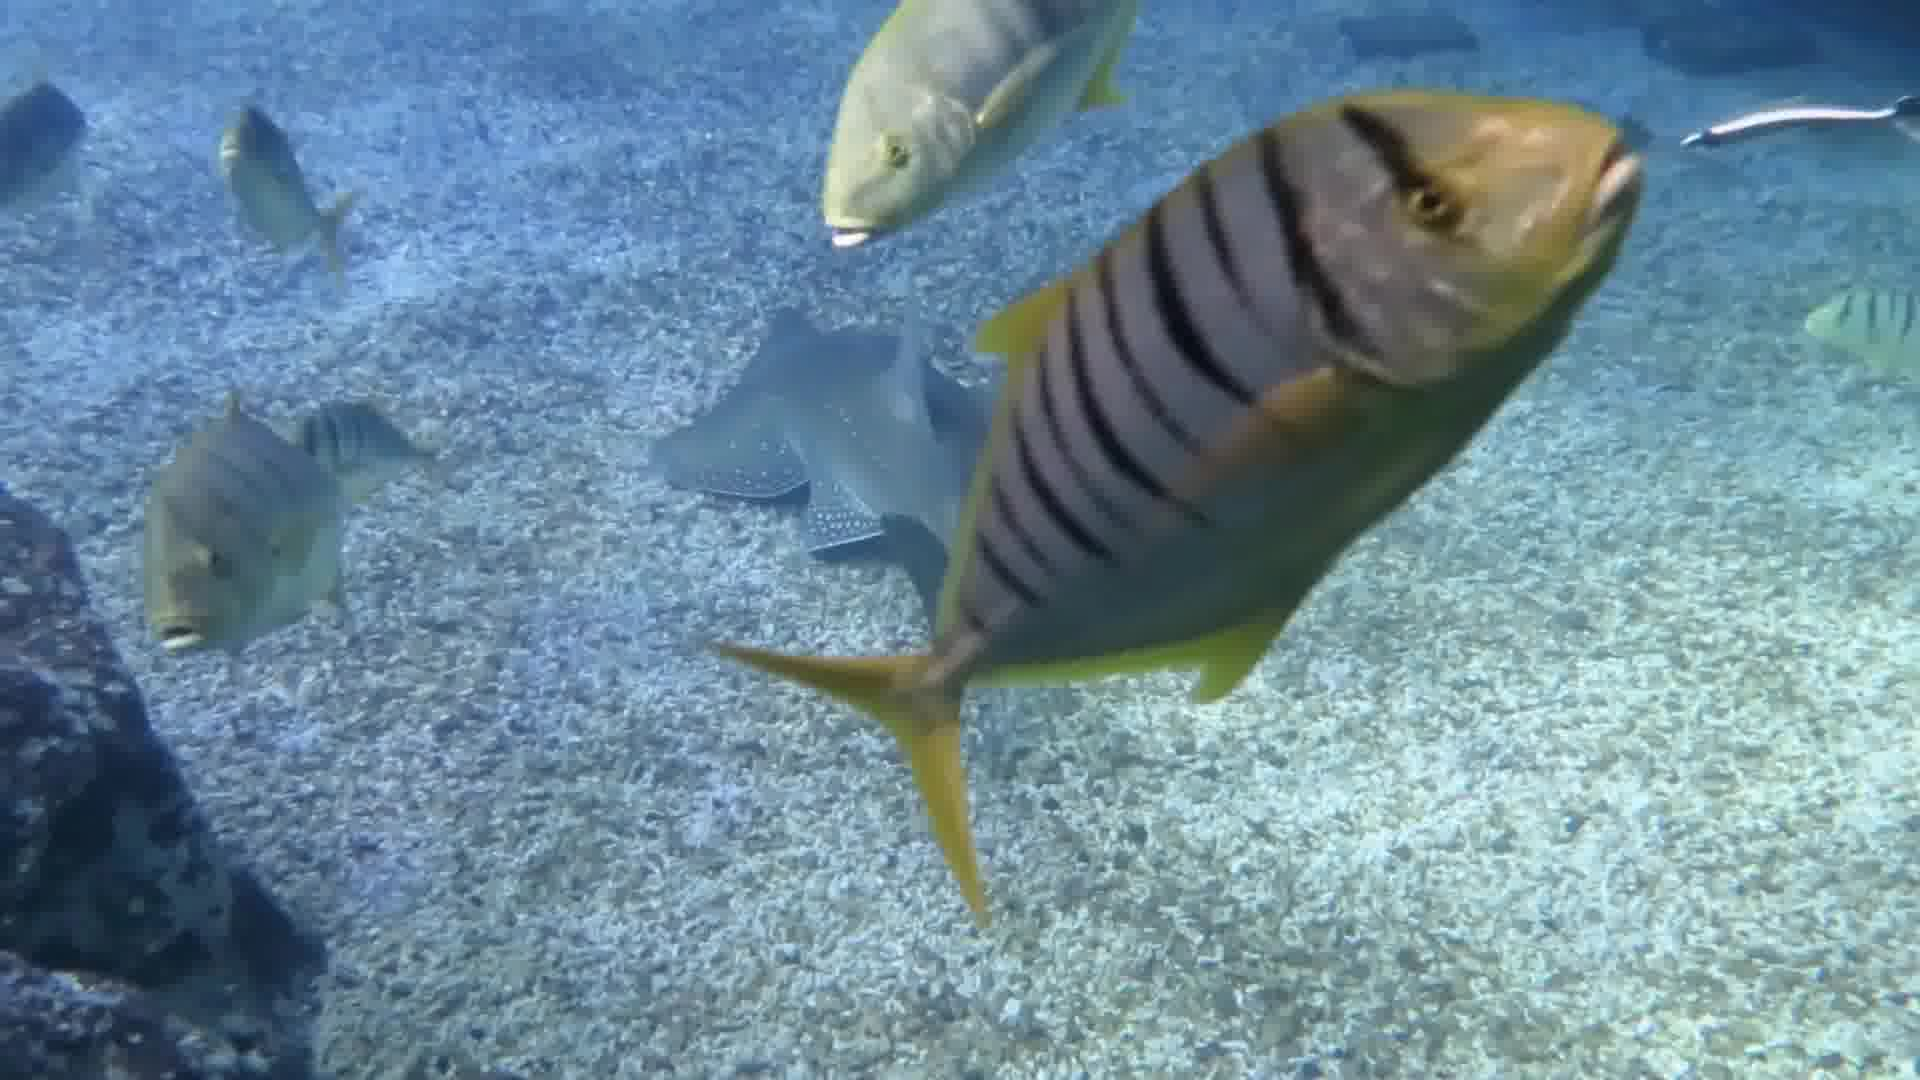Rhychobatus djiddensis: (621, 290, 949, 568)
